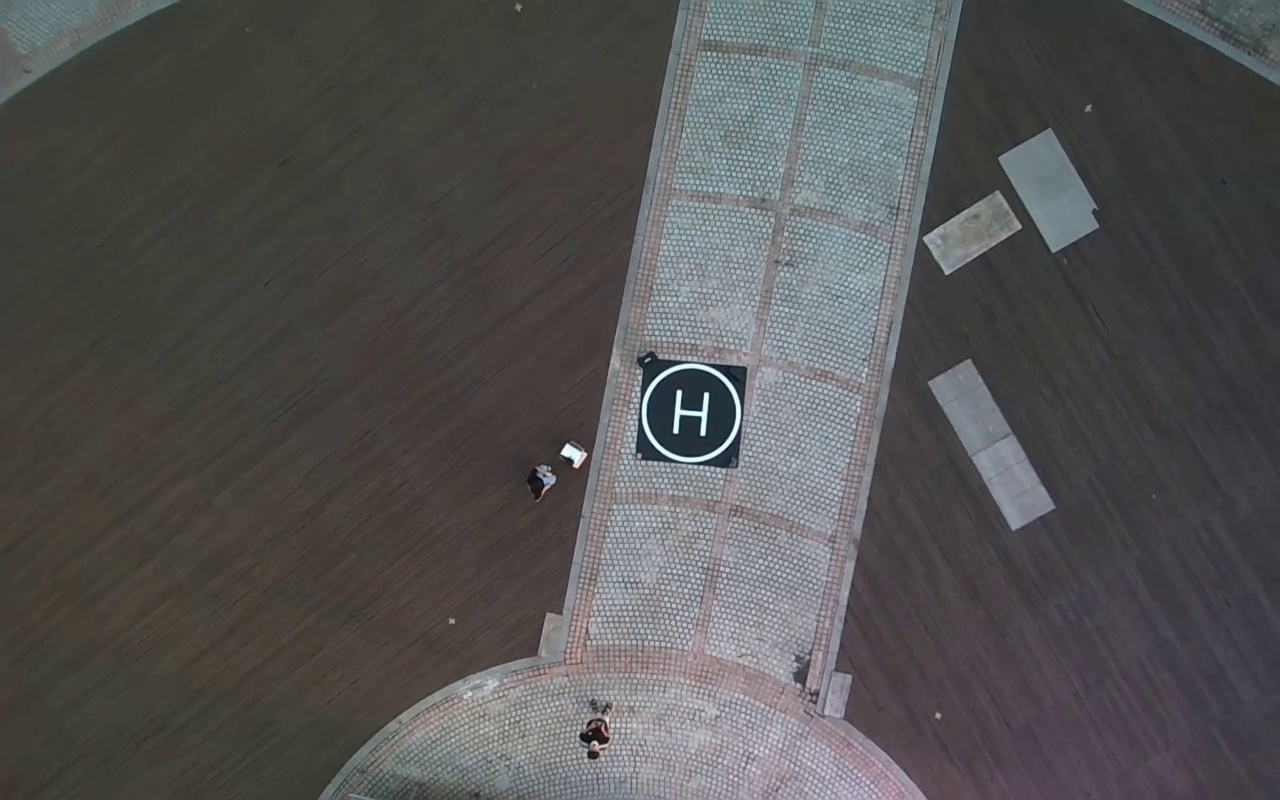H: (672, 391, 710, 434)
heliport: (642, 364, 742, 464)
